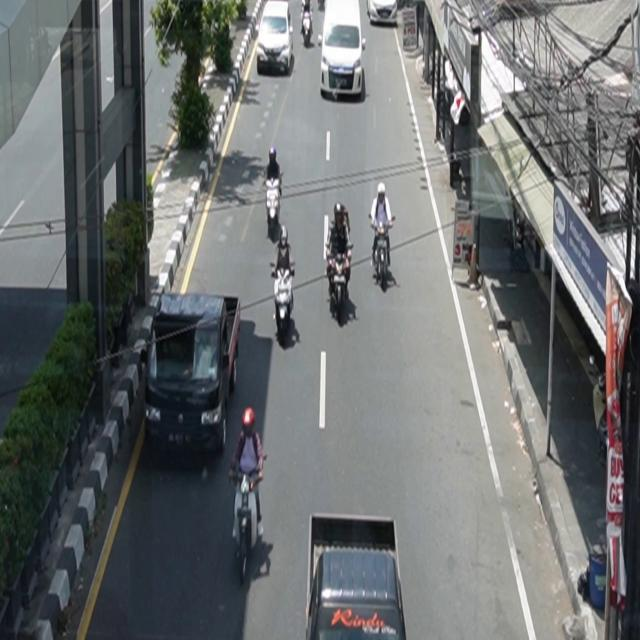car: (320, 1, 367, 101), (256, 1, 294, 76), (367, 1, 398, 26)
truck: (144, 292, 242, 460)
